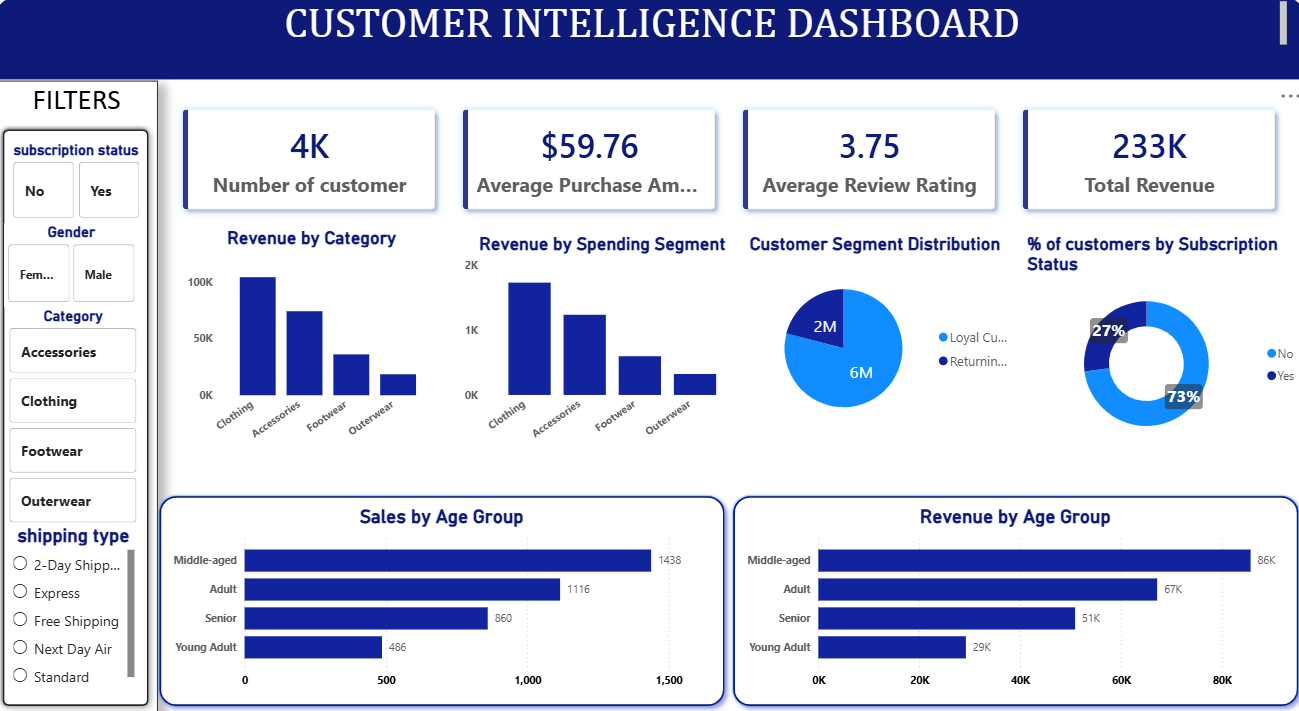

Layout of this report page (visuals, bound fields, positions):
{"tool":"powerbi","page":{"name":"Page 1","canvas":[1500,820],"ordinal":0},"visuals":[{"type":"cardVisual","fields":{"Data":["customer_behavior customer.Number of customer","customer_behavior customer.Average Purchase Amount","customer_behavior customer.Average Review Rating","Sum(customer_behavior customer.purchase_amount)"]},"box":[188,102,1302,168],"z":0},{"type":"shape","box":[0,0,1500,95],"z":1000},{"type":"textbox","box":[327.5,0,1155,62.5],"z":2000},{"type":"donutChart","title":"% of customers by Subscription Status","fields":{"Category":["customer_behavior customer.subscription_status"],"Y":["CountNonNull(customer_behavior customer.customer_id)"]},"box":[1176,270,324,252],"z":4000},{"type":"clusteredColumnChart","title":"Revenue by Category","fields":{"Category":["customer_behavior customer.category"],"Y":["Sum(customer_behavior customer.purchase_amount)"]},"box":[215,262.5,295,262.5],"z":7000},{"type":"clusteredColumnChart","title":"Revenue by Spending Segment","fields":{"Category":["customer_behavior customer.category"],"Y":["CountNonNull(customer_behavior customer.purchase_amount)"]},"box":[532.5,270,325,255],"z":8000},{"type":"shape","title":"FILTERS","box":[0,95,187,725],"z":9000},{"type":"advancedSlicerVisual","title":"subscription status","fields":{"Values":["customer_behavior customer.subscription_status"]},"box":[17,164,154,94],"z":10000},{"type":"advancedSlicerVisual","title":"Gender","fields":{"Values":["customer_behavior customer.gender"]},"box":[12,258,154,96],"z":11000},{"type":"advancedSlicerVisual","title":"Category","fields":{"Values":["customer_behavior customer.category"]},"box":[12.2,354.4,155.6,253.3],"z":12000},{"type":"listSlicer","title":"shipping type","fields":{"Values":["customer_behavior customer.shipping_type"]},"box":[15.6,602.2,150,200],"z":13000},{"type":"shape","box":[180,562,664,258],"z":14000},{"type":"shape","box":[836,562,664,258],"z":15000},{"type":"clusteredBarChart","title":"Sales by Age Group","fields":{"Category":["customer_behavior customer.Age_group"],"Y":["CountNonNull(customer_behavior customer.customer_id)"]},"box":[198,582,626,218],"z":16000},{"type":"clusteredBarChart","title":"Revenue by Age Group","fields":{"Category":["customer_behavior customer.Age_group"],"Y":["Sum(customer_behavior customer.purchase_amount)"]},"box":[854,582,626,218],"z":17000},{"type":"pieChart","title":"Customer Segment Distribution","fields":{"Category":["customer_behavior customer.Customer_Segment"],"Y":["Sum(customer_behavior customer.customer_id)"]},"box":[858,270,318,240],"z":17001}]}

Visuals, with their boxes in screenshot pixels (x1, y1, x2, y2), scaled from the page's 1500x820 canvas onto the 1299x711 screenshot:
cardVisual - customer_behavior customer.Number of customer x customer_behavior customer.Average Purchase Amount: x1=163 y1=88 x2=1290 y2=234
shape: x1=0 y1=0 x2=1298 y2=82
textbox: x1=284 y1=0 x2=1284 y2=54
"% of customers by Subscription Status" donutChart: x1=1018 y1=234 x2=1298 y2=453
"Revenue by Category" clusteredColumnChart: x1=186 y1=228 x2=442 y2=455
"Revenue by Spending Segment" clusteredColumnChart: x1=461 y1=234 x2=743 y2=455
"FILTERS" shape: x1=0 y1=82 x2=162 y2=710
"subscription status" advancedSlicerVisual: x1=15 y1=142 x2=148 y2=224
"Gender" advancedSlicerVisual: x1=10 y1=224 x2=144 y2=307
"Category" advancedSlicerVisual: x1=11 y1=307 x2=145 y2=527
"shipping type" listSlicer: x1=14 y1=522 x2=143 y2=696
shape: x1=156 y1=487 x2=731 y2=710
shape: x1=724 y1=487 x2=1298 y2=710
"Sales by Age Group" clusteredBarChart: x1=171 y1=505 x2=714 y2=694
"Revenue by Age Group" clusteredBarChart: x1=740 y1=505 x2=1282 y2=694
"Customer Segment Distribution" pieChart: x1=743 y1=234 x2=1018 y2=442
